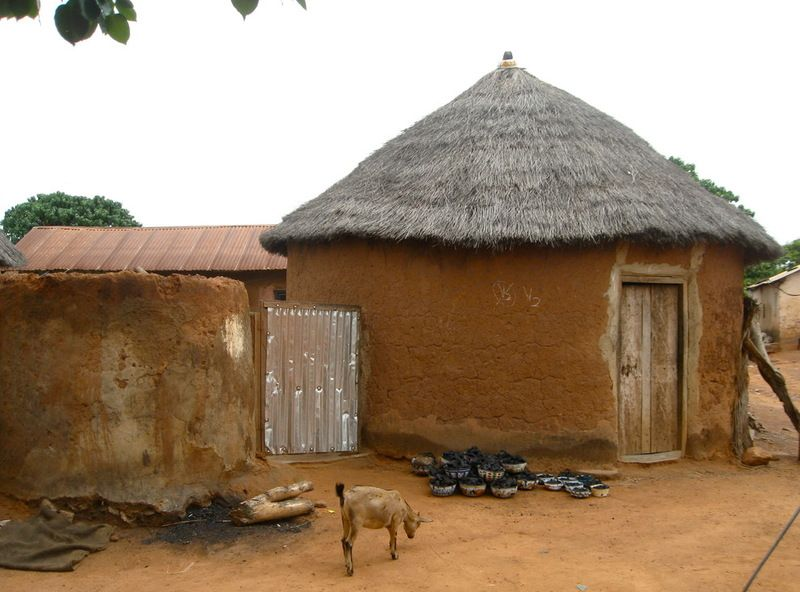Mud House: (263, 61, 761, 471)
